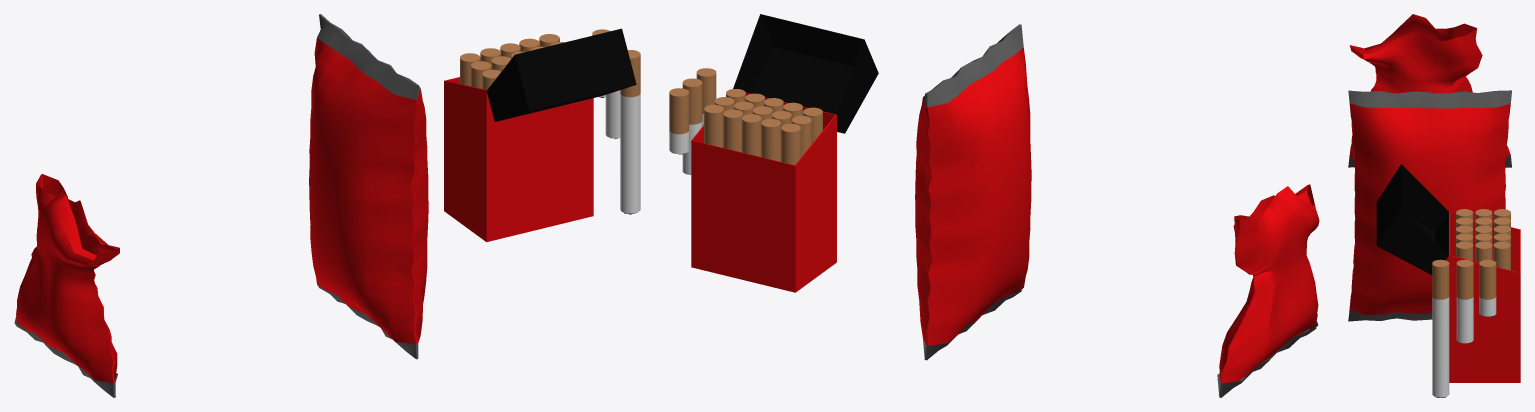
File: props.fbx
The picture shows the model from 3 angles, left to right: view 1: azimuth 30°, elevation 25°; view 2: azimuth 150°, elevation 25°; view 3: azimuth 270°, elevation 25°; orthographic projection. The views are drawn at different scales.
Parts seen in each view (by area): view 1: Plane, Cube, Plane.003, Cube.001, Plane.001, AAwit.003, AAwit.001, Plane.004; view 2: Plane, Cube, Plane.003, Cube.001, Plane.001, AAbruin.002, sigaretbruin.010, bruin.001, sigaretbruin.011, sigaretbruin.008, sigaretbruin.009, AAbruin.001 (+2 smaller); view 3: Plane, Cube, Plane.003, Cube.001, Plane.001, AAwit.003, AAwit.001, AAbruin.002, AAbruin.001, AAbruin.003, bruin.001, bruin (+2 smaller).
Boxes of the visible parts, x1,y1,x2,y2 form: Plane: (309,38,428,343); Cube: (444,77,593,242); Plane.003: (16,174,119,383); Cube.001: (486,28,636,121); Plane.001: (317,14,420,359); AAwit.003: (620,94,640,213); AAwit.001: (605,90,620,138); Plane.004: (14,316,117,397); Plane: (915,47,1031,345); Cube: (691,92,836,292); Plane.003: (1219,184,1319,383); Cube.001: (733,14,878,133); Plane.001: (922,24,1023,360); AAbruin.002: (669,88,688,134); sigaretbruin.010: (761,118,780,161); bruin.001: (704,104,723,147); sigaretbruin.011: (781,123,800,165); sigaretbruin.008: (723,109,743,152); sigaretbruin.009: (742,114,761,156); AAbruin.001: (682,78,702,124); Plane: (1349,103,1510,314); Cube: (1449,211,1520,382); Plane.003: (1349,14,1510,157); Cube.001: (1376,164,1448,274); Plane.001: (1348,90,1511,321); AAwit.003: (1432,297,1449,397); AAwit.001: (1456,297,1473,343); AAbruin.002: (1479,259,1496,299); AAbruin.001: (1456,259,1473,299); AAbruin.003: (1432,259,1449,299); bruin.001: (1493,241,1510,270); bruin: (1475,241,1492,262).
Bounding box in the file's own units: 348 × 149 × 101.
